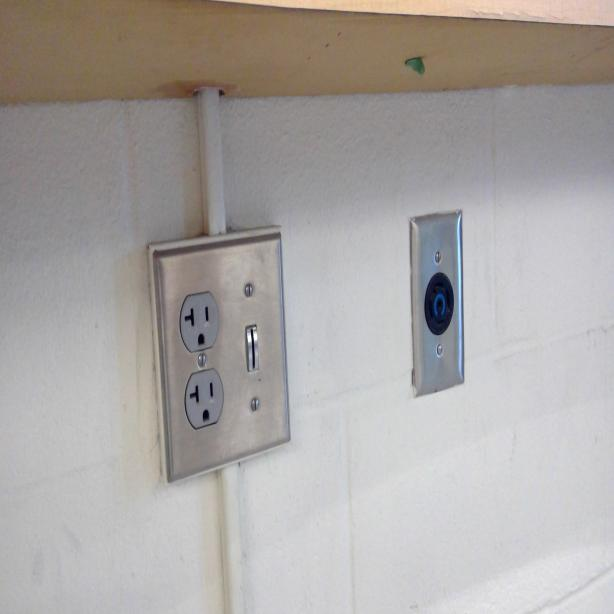typeb: (180, 294, 220, 352), (185, 374, 223, 424)
